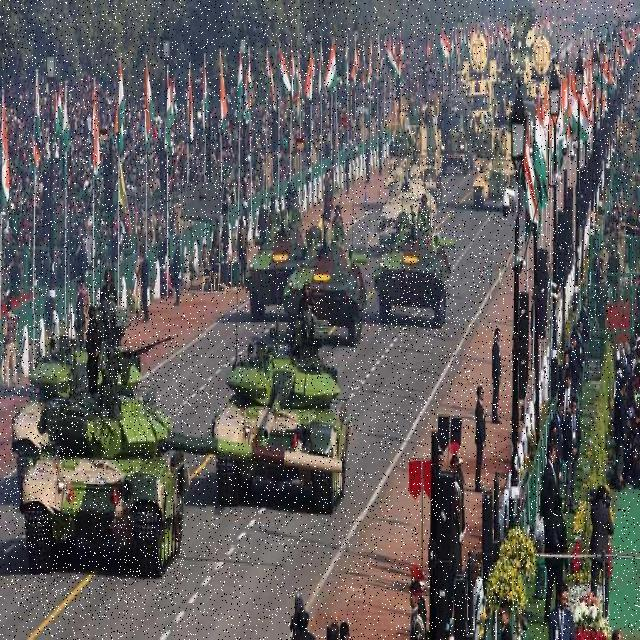MIL_MBT: (10, 314, 184, 619), (206, 322, 362, 546), (378, 189, 456, 337)
